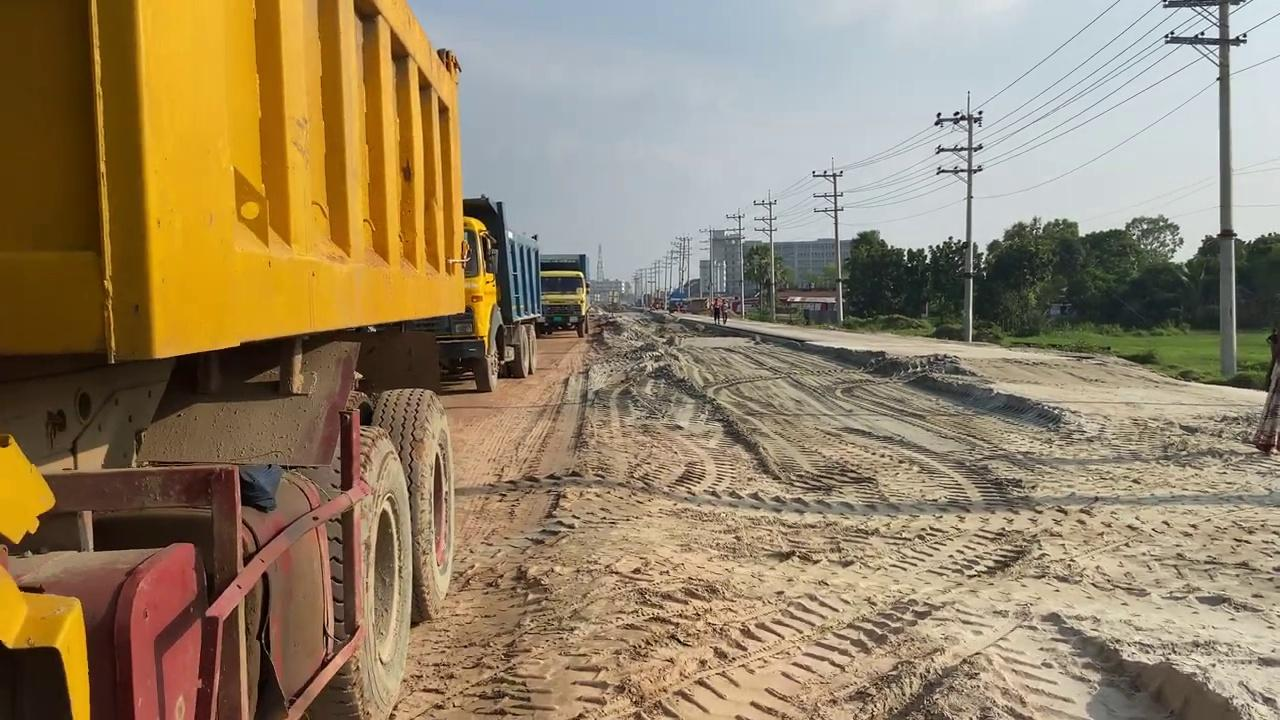Muddy road: (380, 306, 1277, 718)
Pole: (1161, 0, 1247, 378), (1216, 1, 1236, 377)
Tree: (0, 0, 468, 718), (410, 194, 542, 393), (538, 253, 591, 337)
